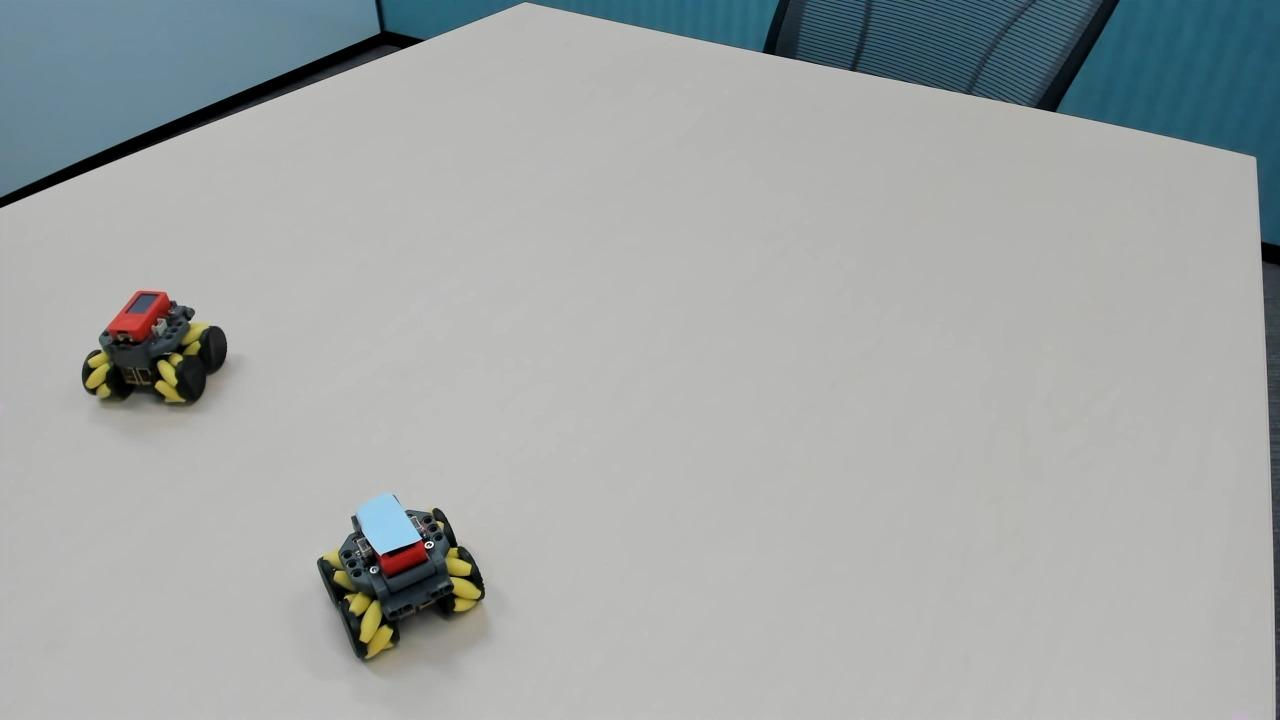B-Robot: (310, 483, 506, 669)
R-Robot: (66, 280, 238, 420)
